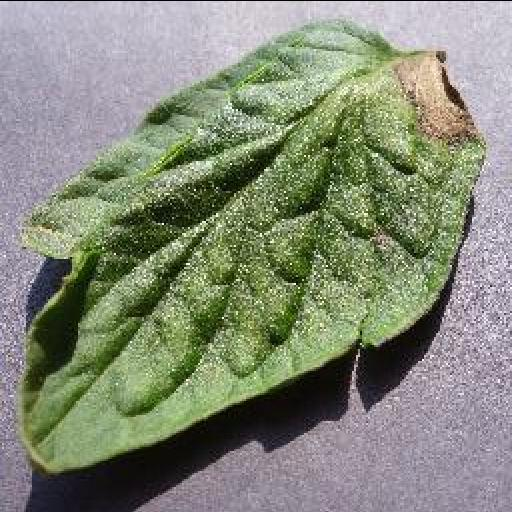disease_tomato: (17, 12, 491, 472)
